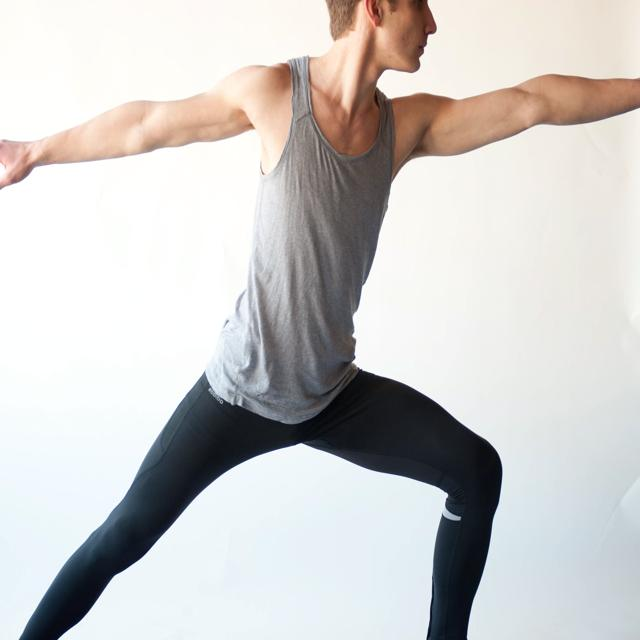Warrior_II: (5, 1, 636, 640)
